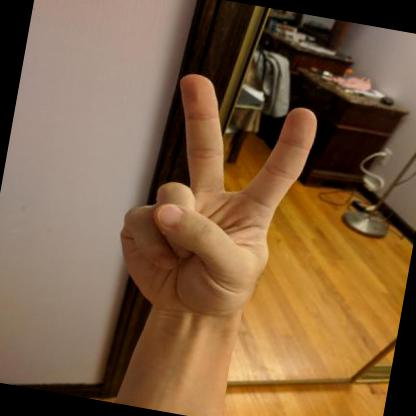V: (119, 73, 316, 326)
